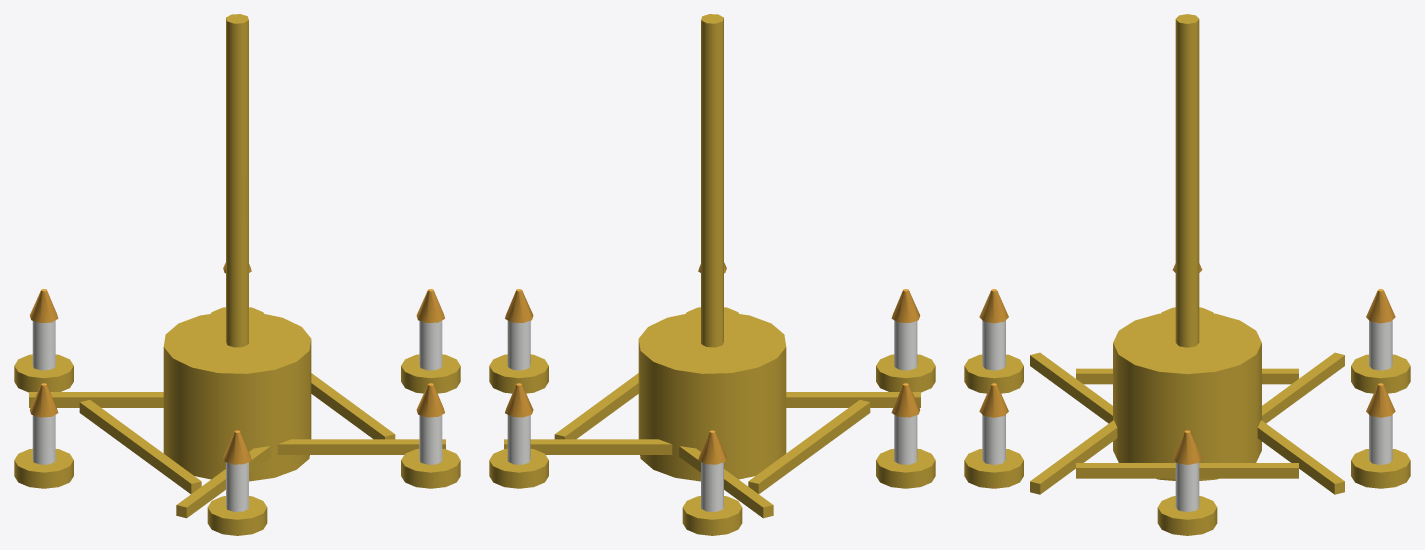
Rendered from HotelLobby_Chandelier.obj.
3 renders of one model, left to right at view 1: azimuth 30°, elevation 25°; view 2: azimuth 150°, elevation 25°; view 3: azimuth 270°, elevation 25°, orthographic.
Size of the model in its own units: 1.7 by 1.6 by 1.5.
